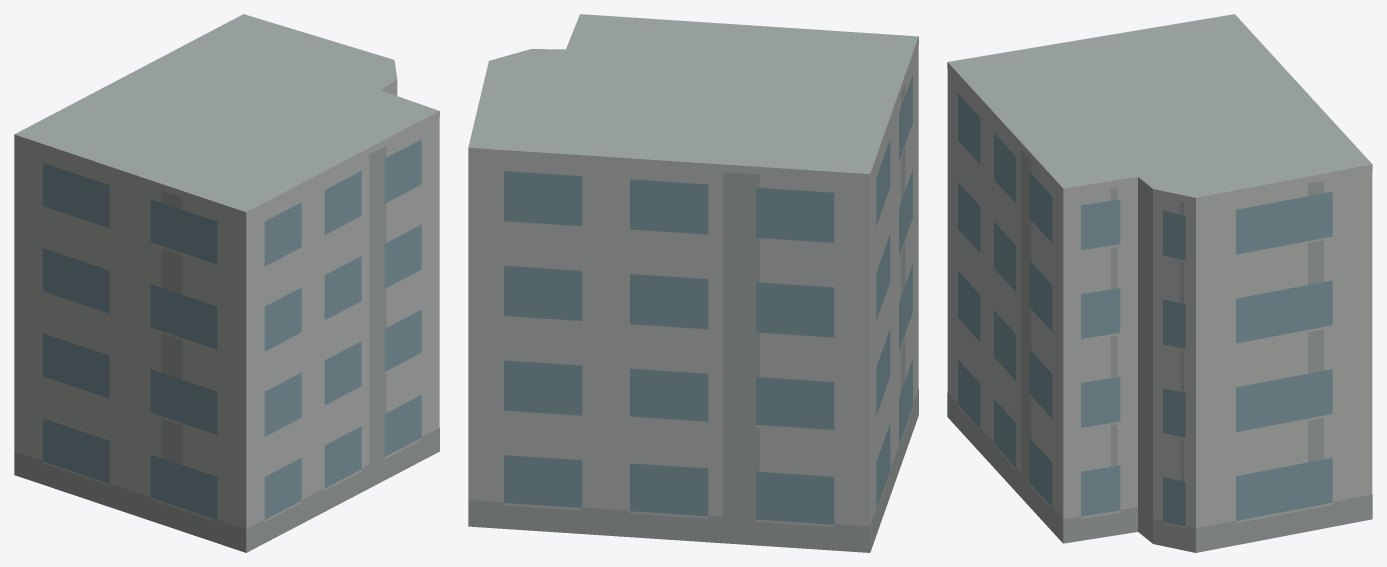
Rendered from residential-1471ac2c-5314-491f-8428-8274d129b65b.glb.
3 views of the same model, side by side, from view 1: azimuth 30°, elevation 25°; view 2: azimuth 150°, elevation 25°; view 3: azimuth 270°, elevation 25° (orthographic). The views are drawn at different scales.
Parts seen in each view (by area): view 1: residential-1471ac2c-5314-491f-8428-8274d129b65b.tmp; view 2: residential-1471ac2c-5314-491f-8428-8274d129b65b.tmp; view 3: residential-1471ac2c-5314-491f-8428-8274d129b65b.tmp.
Boxes of the visible parts, x1,y1,x2,y2 form: residential-1471ac2c-5314-491f-8428-8274d129b65b.tmp: (14, 14, 439, 552); residential-1471ac2c-5314-491f-8428-8274d129b65b.tmp: (468, 14, 918, 552); residential-1471ac2c-5314-491f-8428-8274d129b65b.tmp: (947, 14, 1372, 552).
Bounding box in the file's own units: 13.56 × 12.2 × 13.25.
